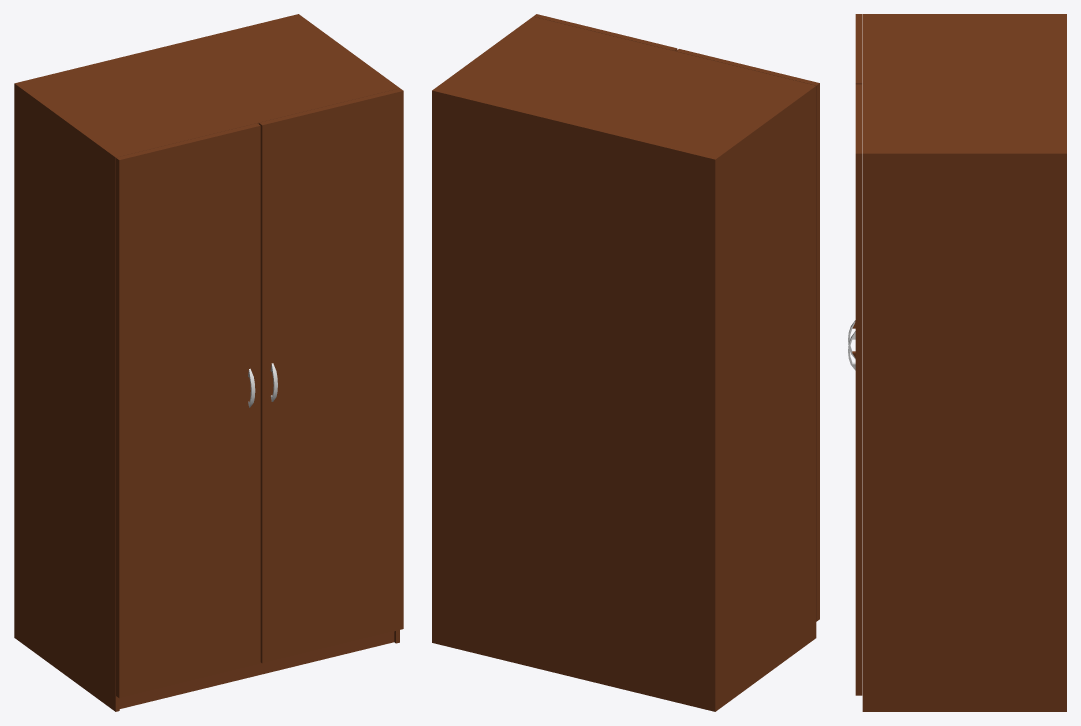
The model's file is closet 1.fbx.
3 views of the same model, side by side, from view 1: azimuth 30°, elevation 25°; view 2: azimuth 150°, elevation 25°; view 3: azimuth 270°, elevation 25° (orthographic).
Parts seen in each view (by area): view 1: closet, L_door, R_door; view 2: closet, L_door; view 3: closet, R_door, L_door.
Boxes of the visible parts, left/top/right/bottom form: closet: left=14, top=14, right=399, bottom=711; L_door: left=116, top=123, right=260, bottom=698; R_door: left=259, top=88, right=403, bottom=663; closet: left=432, top=16, right=816, bottom=711; L_door: left=676, top=49, right=819, bottom=621; closet: left=862, top=14, right=1066, bottom=711; R_door: left=848, top=84, right=862, bottom=695; L_door: left=848, top=14, right=862, bottom=358.
Bounding box in the file's own units: 254 × 473 × 168.
